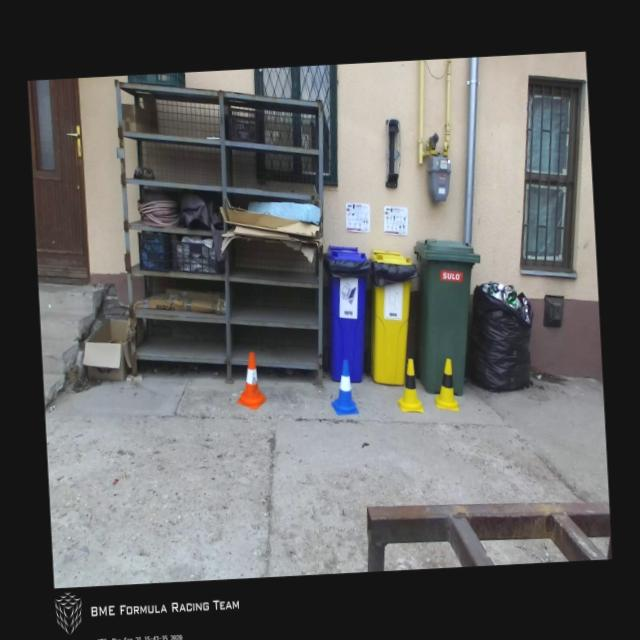blue_cone: (329, 359, 358, 415)
orange_cone: (234, 351, 266, 410)
yellow_cone: (396, 359, 424, 414), (433, 359, 459, 412)
